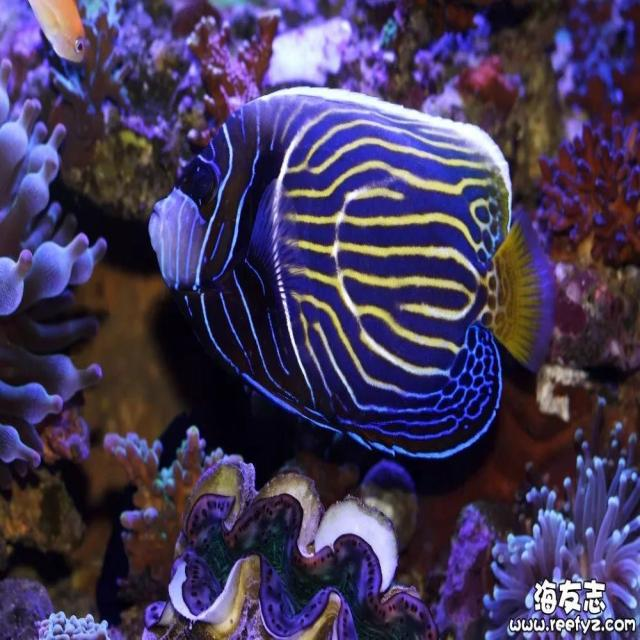AngelFish: (146, 85, 553, 467)
